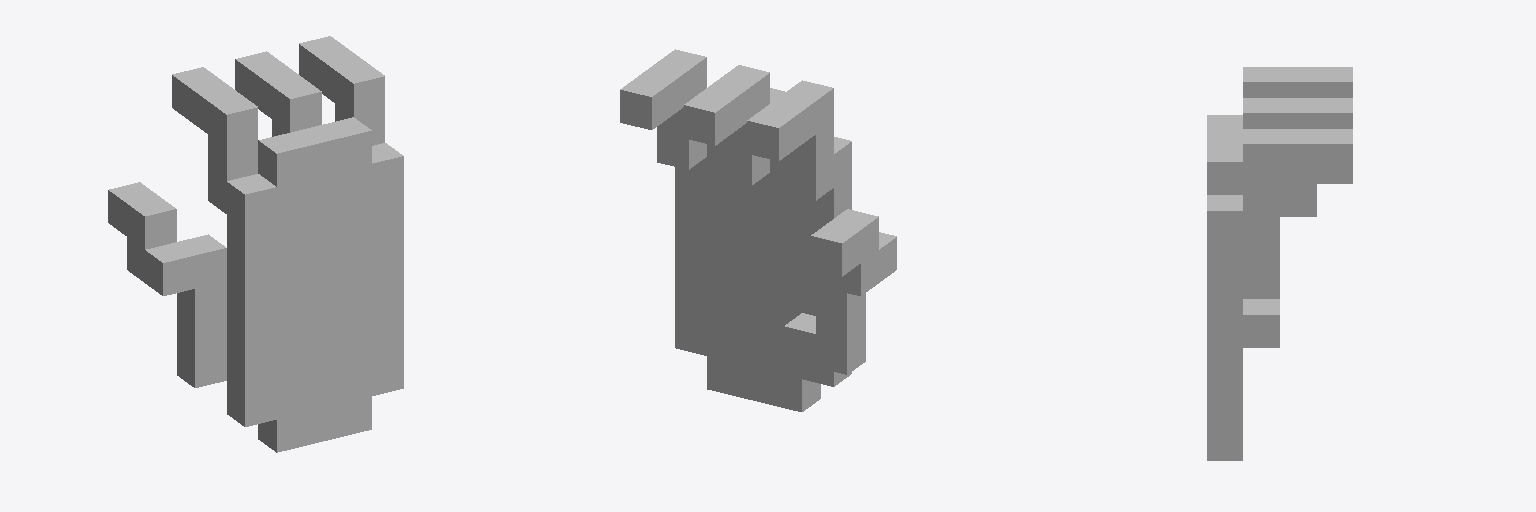
File: ClawRight.obj
3 renders of one model, left to right at view 1: azimuth 30°, elevation 25°; view 2: azimuth 150°, elevation 25°; view 3: azimuth 270°, elevation 25°, orthographic.
Parts seen in each view (by area): view 1: cube; view 2: cube; view 3: cube.
Part boxes in pixels (bbox=[...]): cube: bbox=[108, 36, 403, 452]; cube: bbox=[620, 49, 896, 411]; cube: bbox=[1207, 67, 1352, 460].
Size of the model in its own units: 7 by 10 by 4.